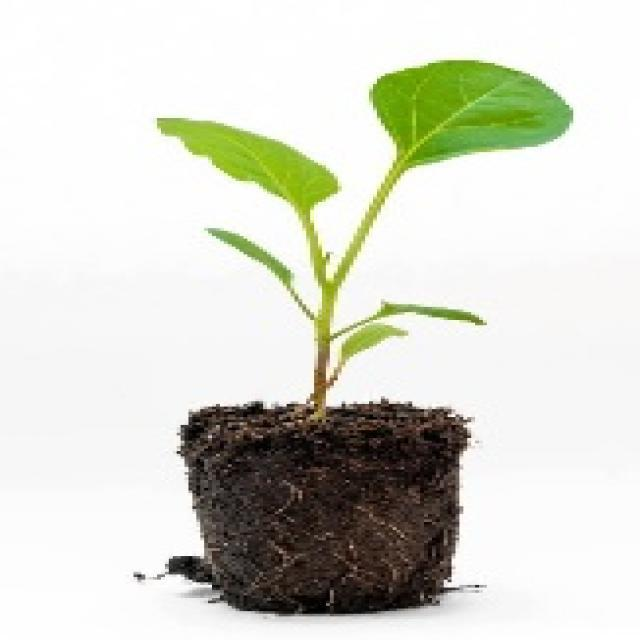plant: (157, 60, 573, 421)
